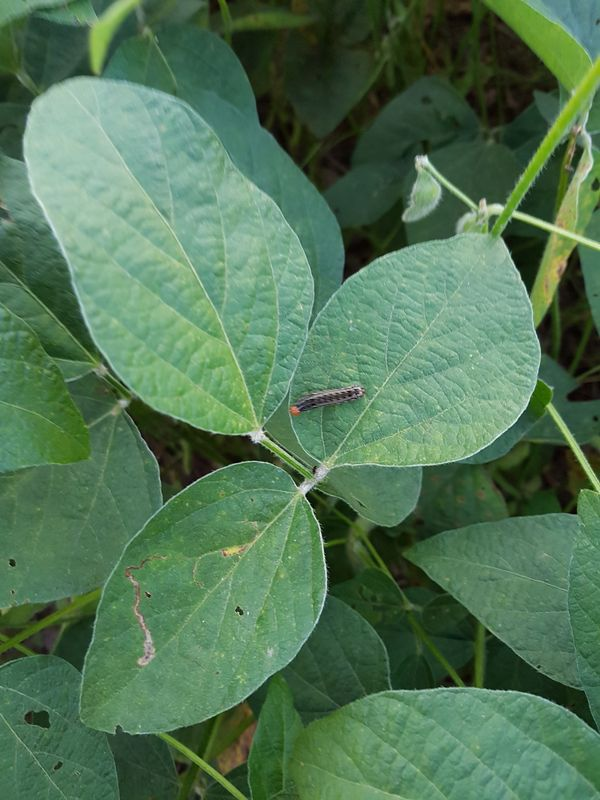Spodoptera_albula: (280, 373, 372, 434)
